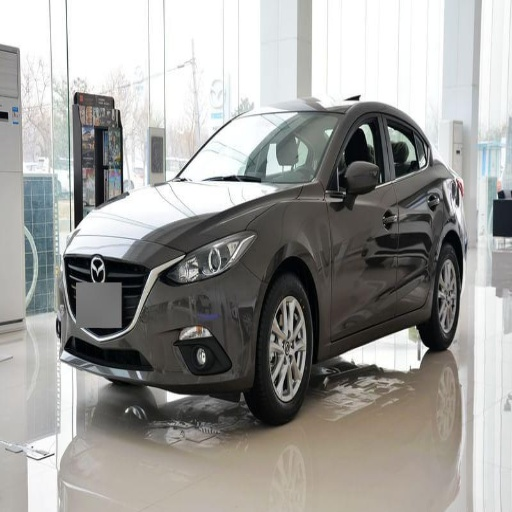back_glass: (380, 107, 443, 313)
back_right_light: (57, 238, 262, 394)
front_bumper: (175, 112, 341, 181)
front_glass: (325, 107, 398, 339)
front_left_door: (157, 230, 254, 284)
front_right_light: (74, 181, 293, 250)
trunk: (247, 275, 314, 424), (420, 247, 459, 348)
